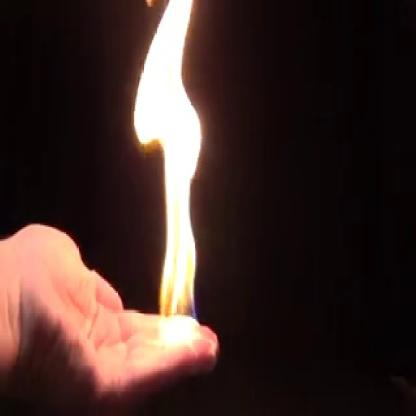fire: (130, 0, 208, 340)
